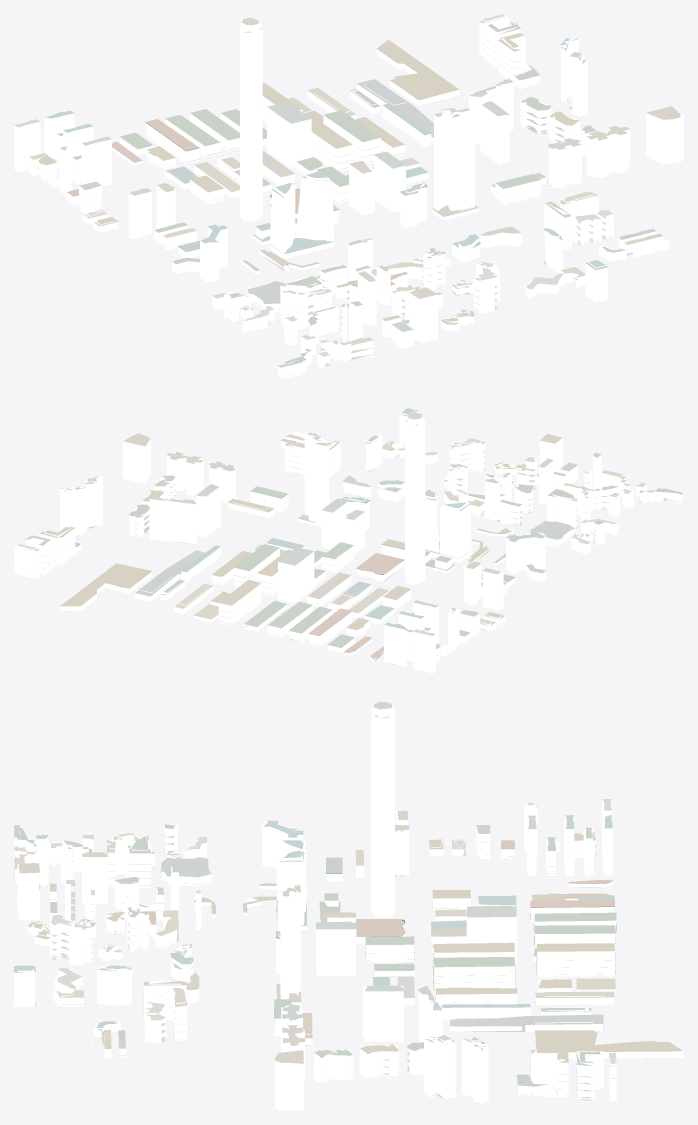
The model's file is buildings-7_2-coarse.glb.
3 renders of one model, top to bottom at view 1: azimuth 30°, elevation 25°; view 2: azimuth 150°, elevation 25°; view 3: azimuth 270°, elevation 25°, orthographic. The views are drawn at different scales.
Visible parts, largest first — view 1: block_7_2_office, block_7_2_residential, block_7_2_roof; view 2: block_7_2_office, block_7_2_residential, block_7_2_roof; view 3: block_7_2_residential, block_7_2_office, block_7_2_roof.
Boxes of the visible parts, box(x1,y1,x2,y2) form: block_7_2_office: box(14, 19, 683, 348); block_7_2_residential: box(29, 14, 669, 379); block_7_2_roof: box(14, 14, 680, 377); block_7_2_office: box(60, 409, 601, 673); block_7_2_residential: box(14, 431, 683, 664); block_7_2_roof: box(15, 408, 683, 670); block_7_2_residential: box(14, 824, 683, 1101); block_7_2_office: box(14, 704, 612, 1110); block_7_2_roof: box(14, 702, 682, 1100).
Bounding box in the file's own units: 673 × 240 × 697.
